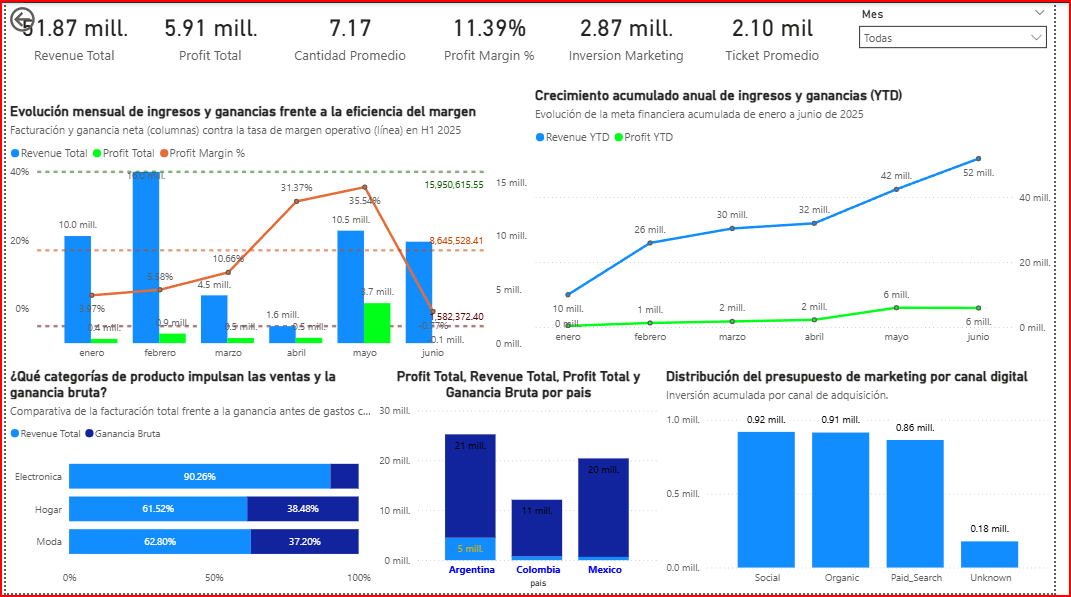

The page's visual inventory and layout, read from the dashboard file:
{"tool":"powerbi","page":{"name":"General","canvas":[1280,720],"ordinal":0},"visuals":[{"type":"slicer","fields":{"Values":["Calendario.Mes"]},"box":[1030.9,0,249.1,78.5],"z":0},{"type":"card","fields":{"Values":["_Medidas Base y de Rentabilidad.Revenue Total"]},"box":[0,0,166.5,78.5],"z":1000},{"type":"card","fields":{"Values":["_Medidas Base y de Rentabilidad.Profit Total"]},"box":[166.5,0,166.5,78.5],"z":2000},{"type":"card","fields":{"Values":["_Medidas Base y de Rentabilidad.Profit Margin %"]},"box":[506.5,0,166.5,78.5],"z":3000},{"type":"card","fields":{"Values":["_Medidas Base y de Rentabilidad.Inversion Marketing"]},"box":[673,0,166.5,78.5],"z":4000},{"type":"lineClusteredColumnComboChart","title":"Evolución mensual de ingresos y ganancias frente a la eficiencia del margen","fields":{"Y":["_Medidas Base y de Rentabilidad.Revenue Total","_Medidas Base y de Rentabilidad.Profit Total"],"Y2":["_Medidas Base y de Rentabilidad.Profit Margin %"],"Category":["Calendario.Mes"]},"box":[0,122.4,640.8,323.4],"z":5000},{"type":"lineChart","title":"Crecimiento acumulado anual de ingresos y ganancias (YTD)","fields":{"Y":["_Medidas de Inteligencia de Tiempo.Revenue YTD","_Medidas de Inteligencia de Tiempo.Profit YTD"],"Category":["Calendario.Mes"]},"box":[640.8,102.8,639.2,323.4],"z":6000},{"type":"hundredPercentStackedBarChart","title":"¿Qué categorías de producto impulsan las ventas y la ganancia bruta?","fields":{"Category":["orders_clean.categoria_producto"],"Y":["_Medidas Base y de Rentabilidad.Revenue Total","_Medidas Base y de Rentabilidad.Ganancia Bruta"]},"box":[0,445.8,450.3,273.5],"z":7000},{"type":"lineClusteredColumnComboChart","title":"Distribución del presupuesto de marketing por canal digital","fields":{"Category":["marketing_clean.canal"],"Y":["_Medidas Base y de Rentabilidad.Inversion Marketing"]},"box":[800.9,445.8,479.1,273.5],"z":8000},{"type":"lineStackedColumnComboChart","fields":{"Category":["Dim_Pais.pais"],"Y":["_Medidas Base y de Rentabilidad.Profit Total","_Medidas Base y de Rentabilidad.Revenue Total"]},"box":[450.3,445.8,350.6,273.5],"z":9000},{"type":"actionButton","box":[0,0,100,40],"z":10000},{"type":"card","fields":{"Values":["_Medidas de Ventas.Cantidad Promedio"]},"box":[333.1,0,173.4,78.5],"z":11000},{"type":"card","fields":{"Values":["_Medidas de Ventas.Ticket Promedio"]},"box":[839.6,0,191.3,78.5],"z":12000}]}

Visuals, with their boxes in screenshot pixels (x1, y1, x2, y2), scaled from the page's 1280x720 canvas onto the 1071x597 screenshot:
slicer - Calendario.Mes: crop(863, 0, 1070, 65)
card - _Medidas Base y de Rentabilidad.Revenue Total: crop(0, 0, 139, 65)
card - _Medidas Base y de Rentabilidad.Profit Total: crop(139, 0, 279, 65)
card - _Medidas Base y de Rentabilidad.Profit Margin %: crop(424, 0, 563, 65)
card - _Medidas Base y de Rentabilidad.Inversion Marketing: crop(563, 0, 702, 65)
"Evolución mensual de ingresos y ganancias frente a la eficiencia del margen" lineClusteredColumnComboChart: crop(0, 101, 536, 370)
"Crecimiento acumulado anual de ingresos y ganancias (YTD)" lineChart: crop(536, 85, 1070, 353)
"¿Qué categorías de producto impulsan las ventas y la ganancia bruta?" hundredPercentStackedBarChart: crop(0, 370, 377, 596)
"Distribución del presupuesto de marketing por canal digital" lineClusteredColumnComboChart: crop(670, 370, 1070, 596)
lineStackedColumnComboChart - Dim_Pais.pais x _Medidas Base y de Rentabilidad.Profit Total: crop(377, 370, 670, 596)
actionButton: crop(0, 0, 84, 33)
card - _Medidas de Ventas.Cantidad Promedio: crop(279, 0, 424, 65)
card - _Medidas de Ventas.Ticket Promedio: crop(703, 0, 863, 65)
